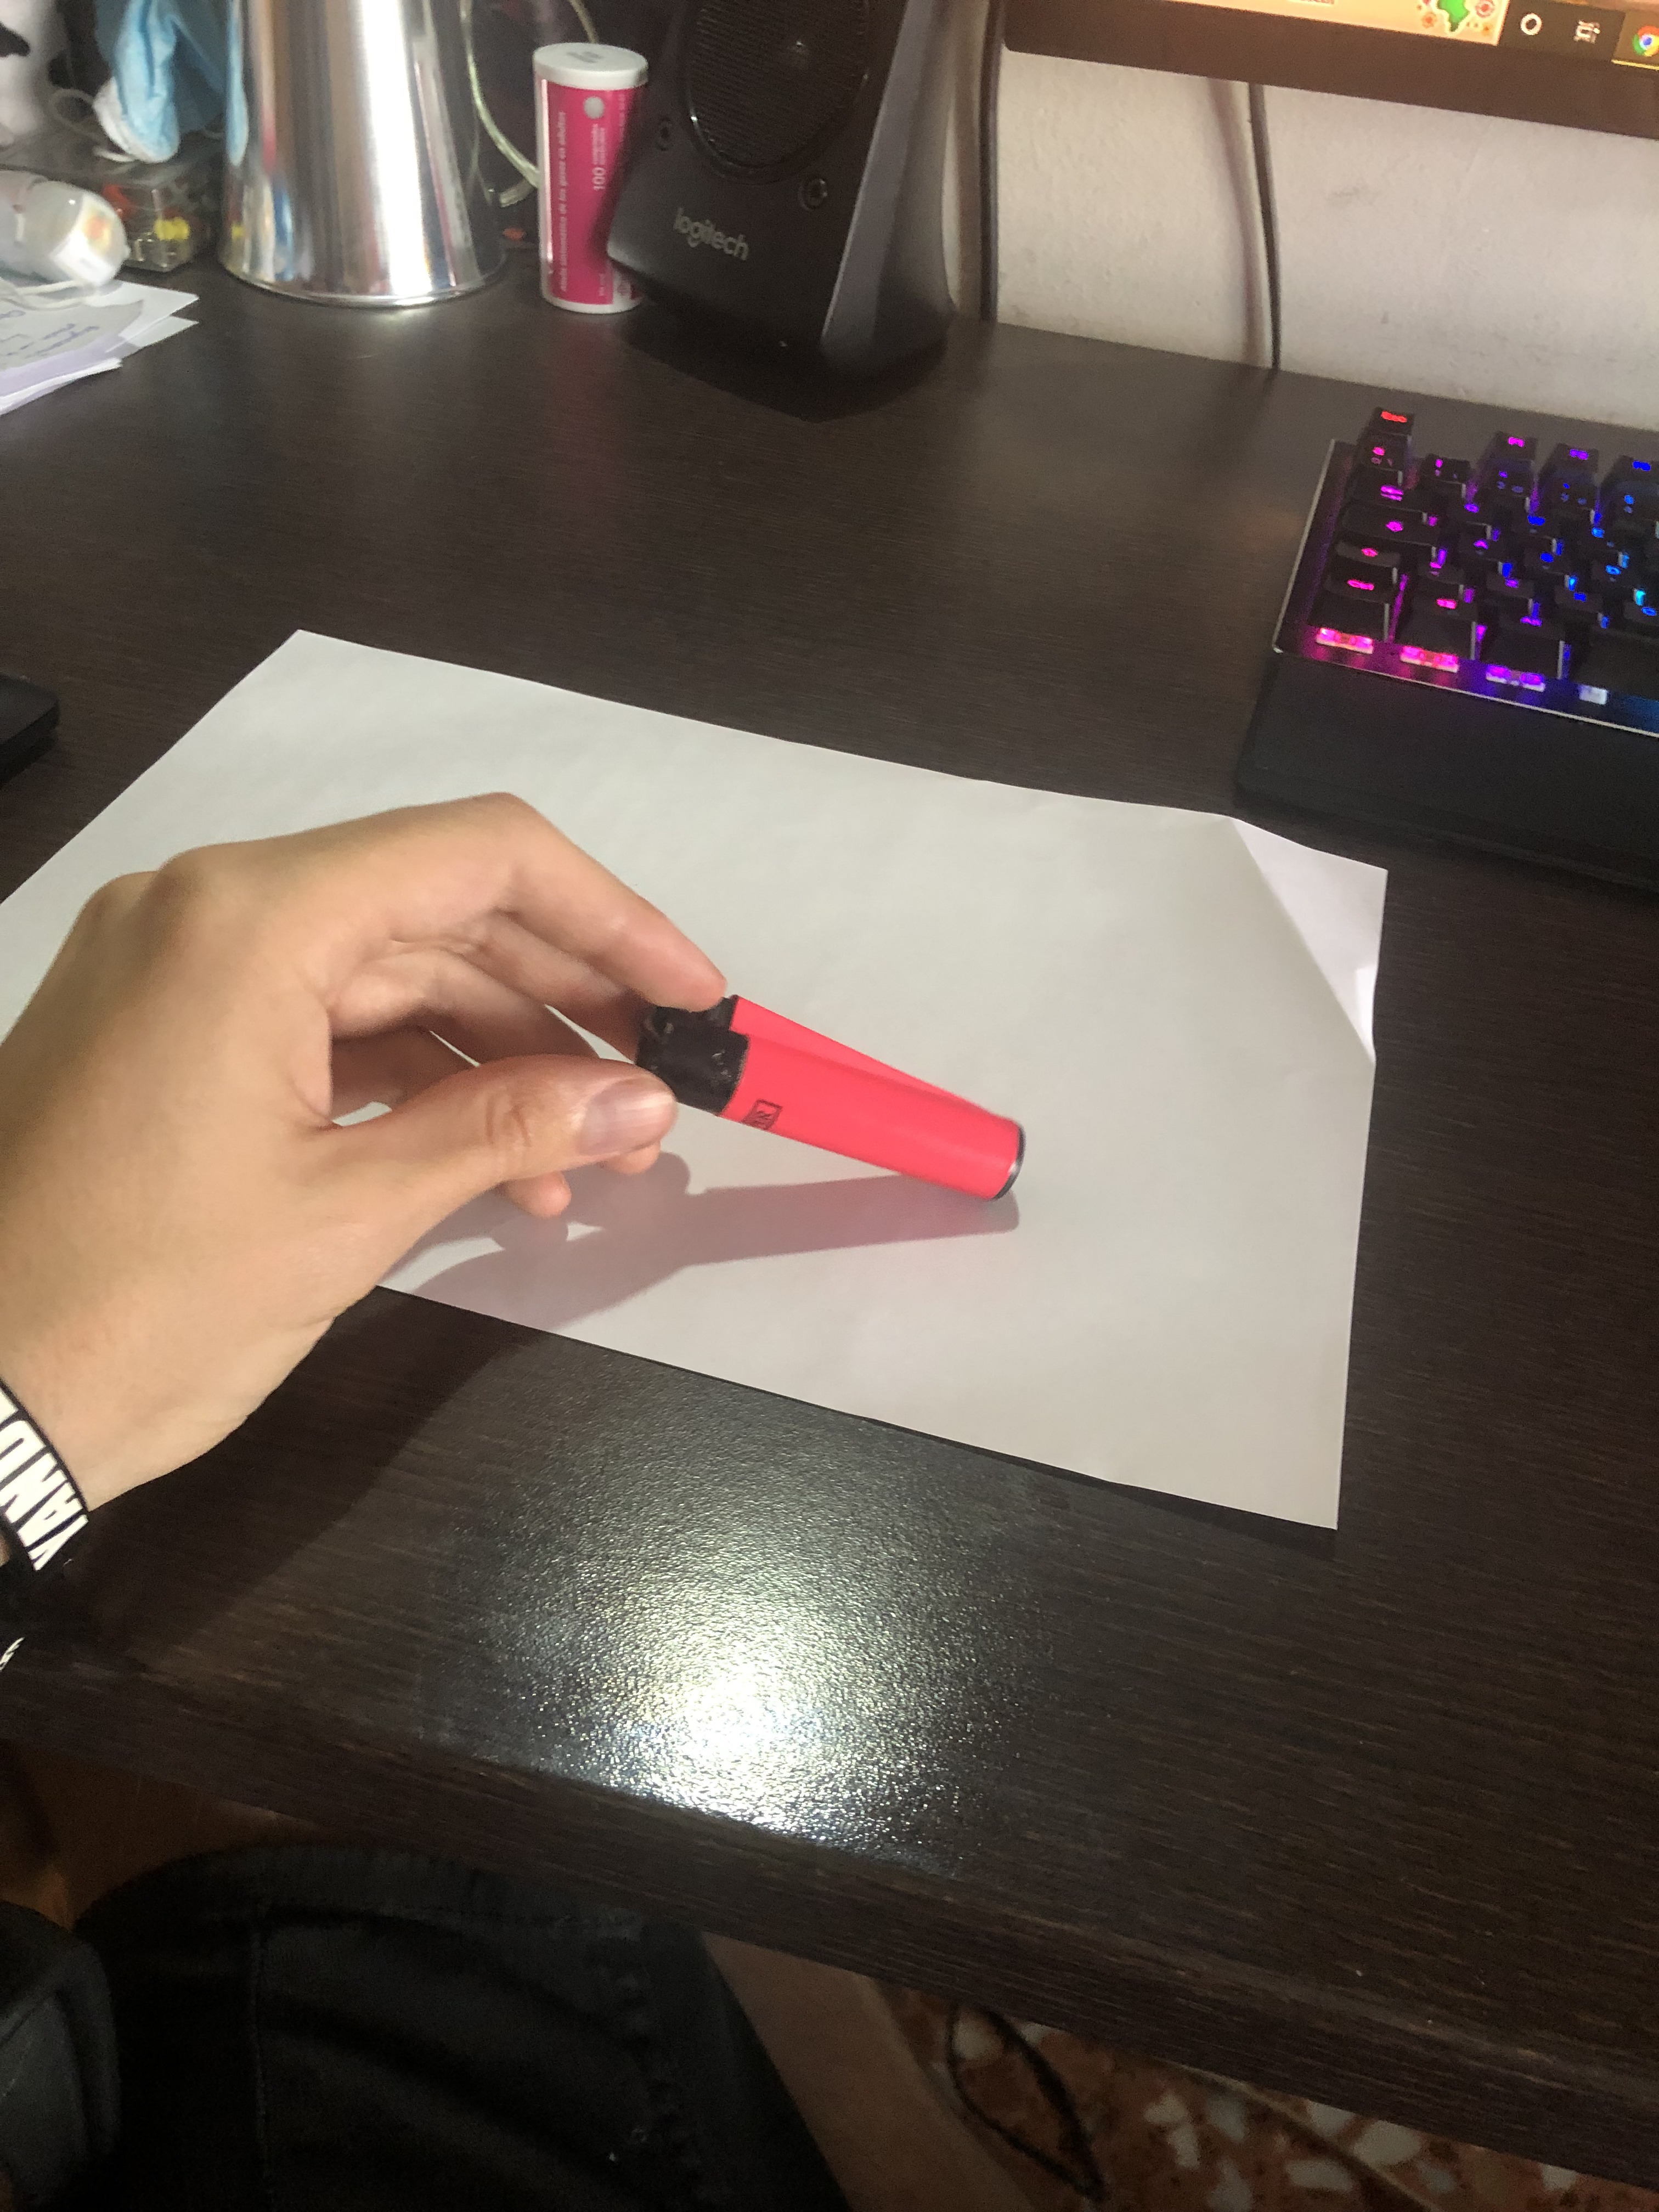Mechero: (624, 975, 1021, 1275)
